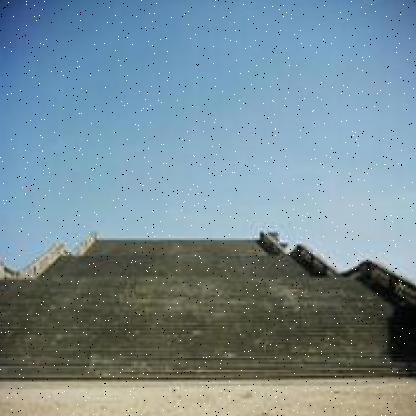stair_up: (45, 252, 362, 372)
